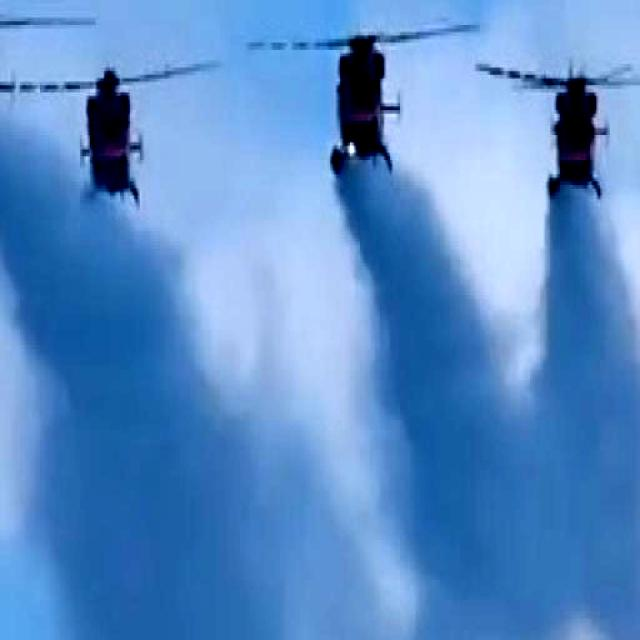drone: (250, 18, 471, 179), (486, 36, 640, 204), (22, 36, 205, 170), (0, 0, 89, 168)
